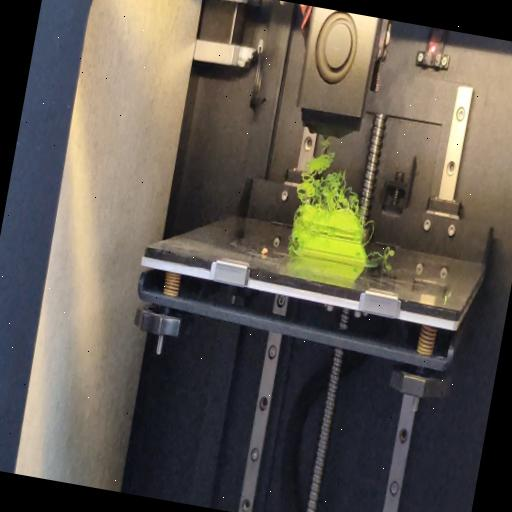spaghetti: (298, 131, 372, 215), (368, 244, 398, 263), (364, 220, 376, 244), (284, 240, 295, 258)
